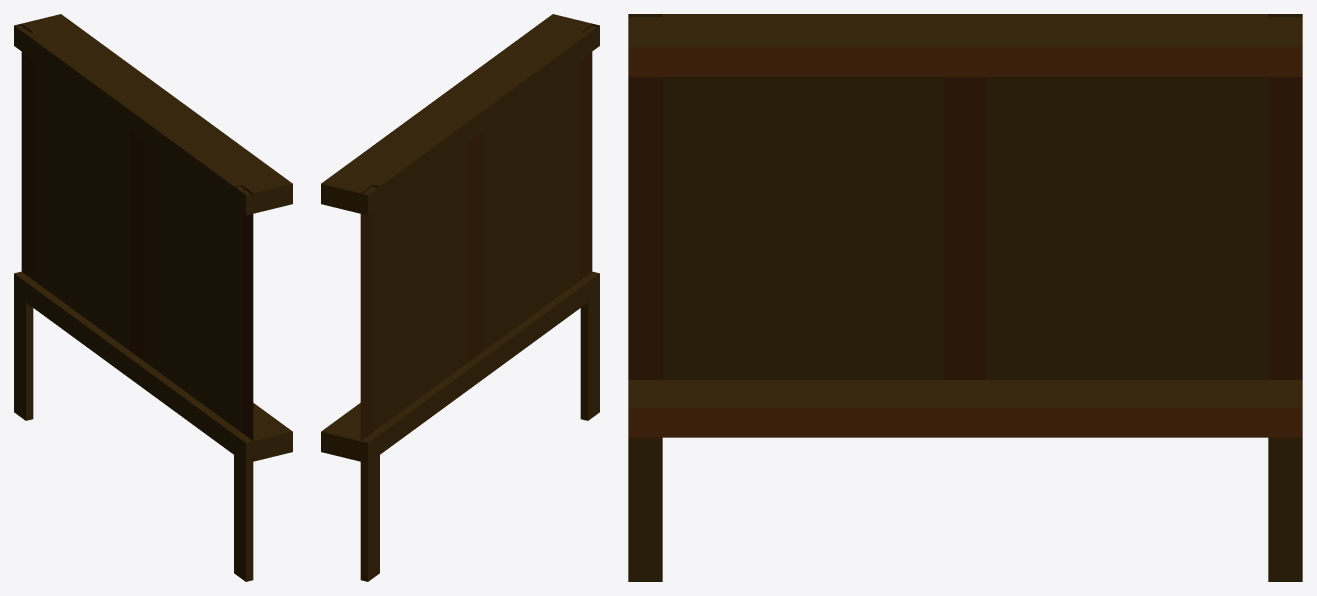
The model's file is Comoda1.fbx.
3 views of the same model, side by side, from view 1: azimuth 30°, elevation 25°; view 2: azimuth 150°, elevation 25°; view 3: azimuth 270°, elevation 25° (orthographic). The views are drawn at different scales.
Parts seen in each view (by area): view 1: Desk.002; view 2: Desk.002; view 3: Desk.002.
Part boxes in pixels (left/top/right/bottom): Desk.002: left=14, top=14, right=292, bottom=581; Desk.002: left=321, top=14, right=599, bottom=581; Desk.002: left=628, top=14, right=1302, bottom=581.
Size of the model in its own units: 282 by 2213 by 2404.
